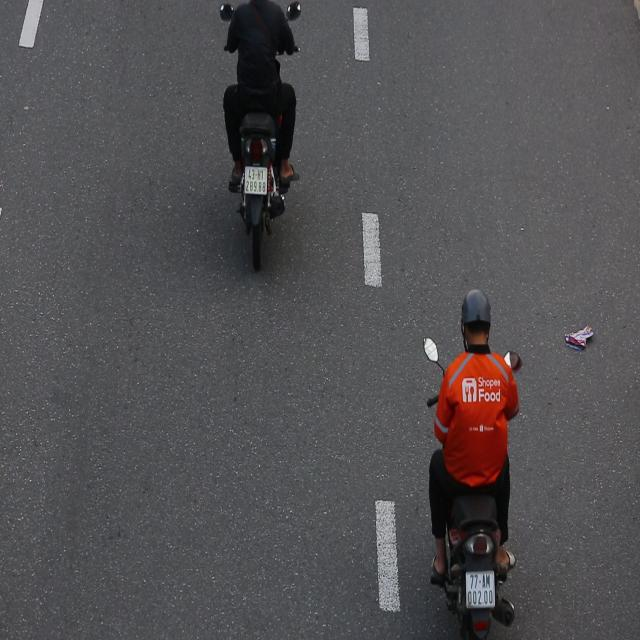motorbike: (425, 280, 529, 640)
